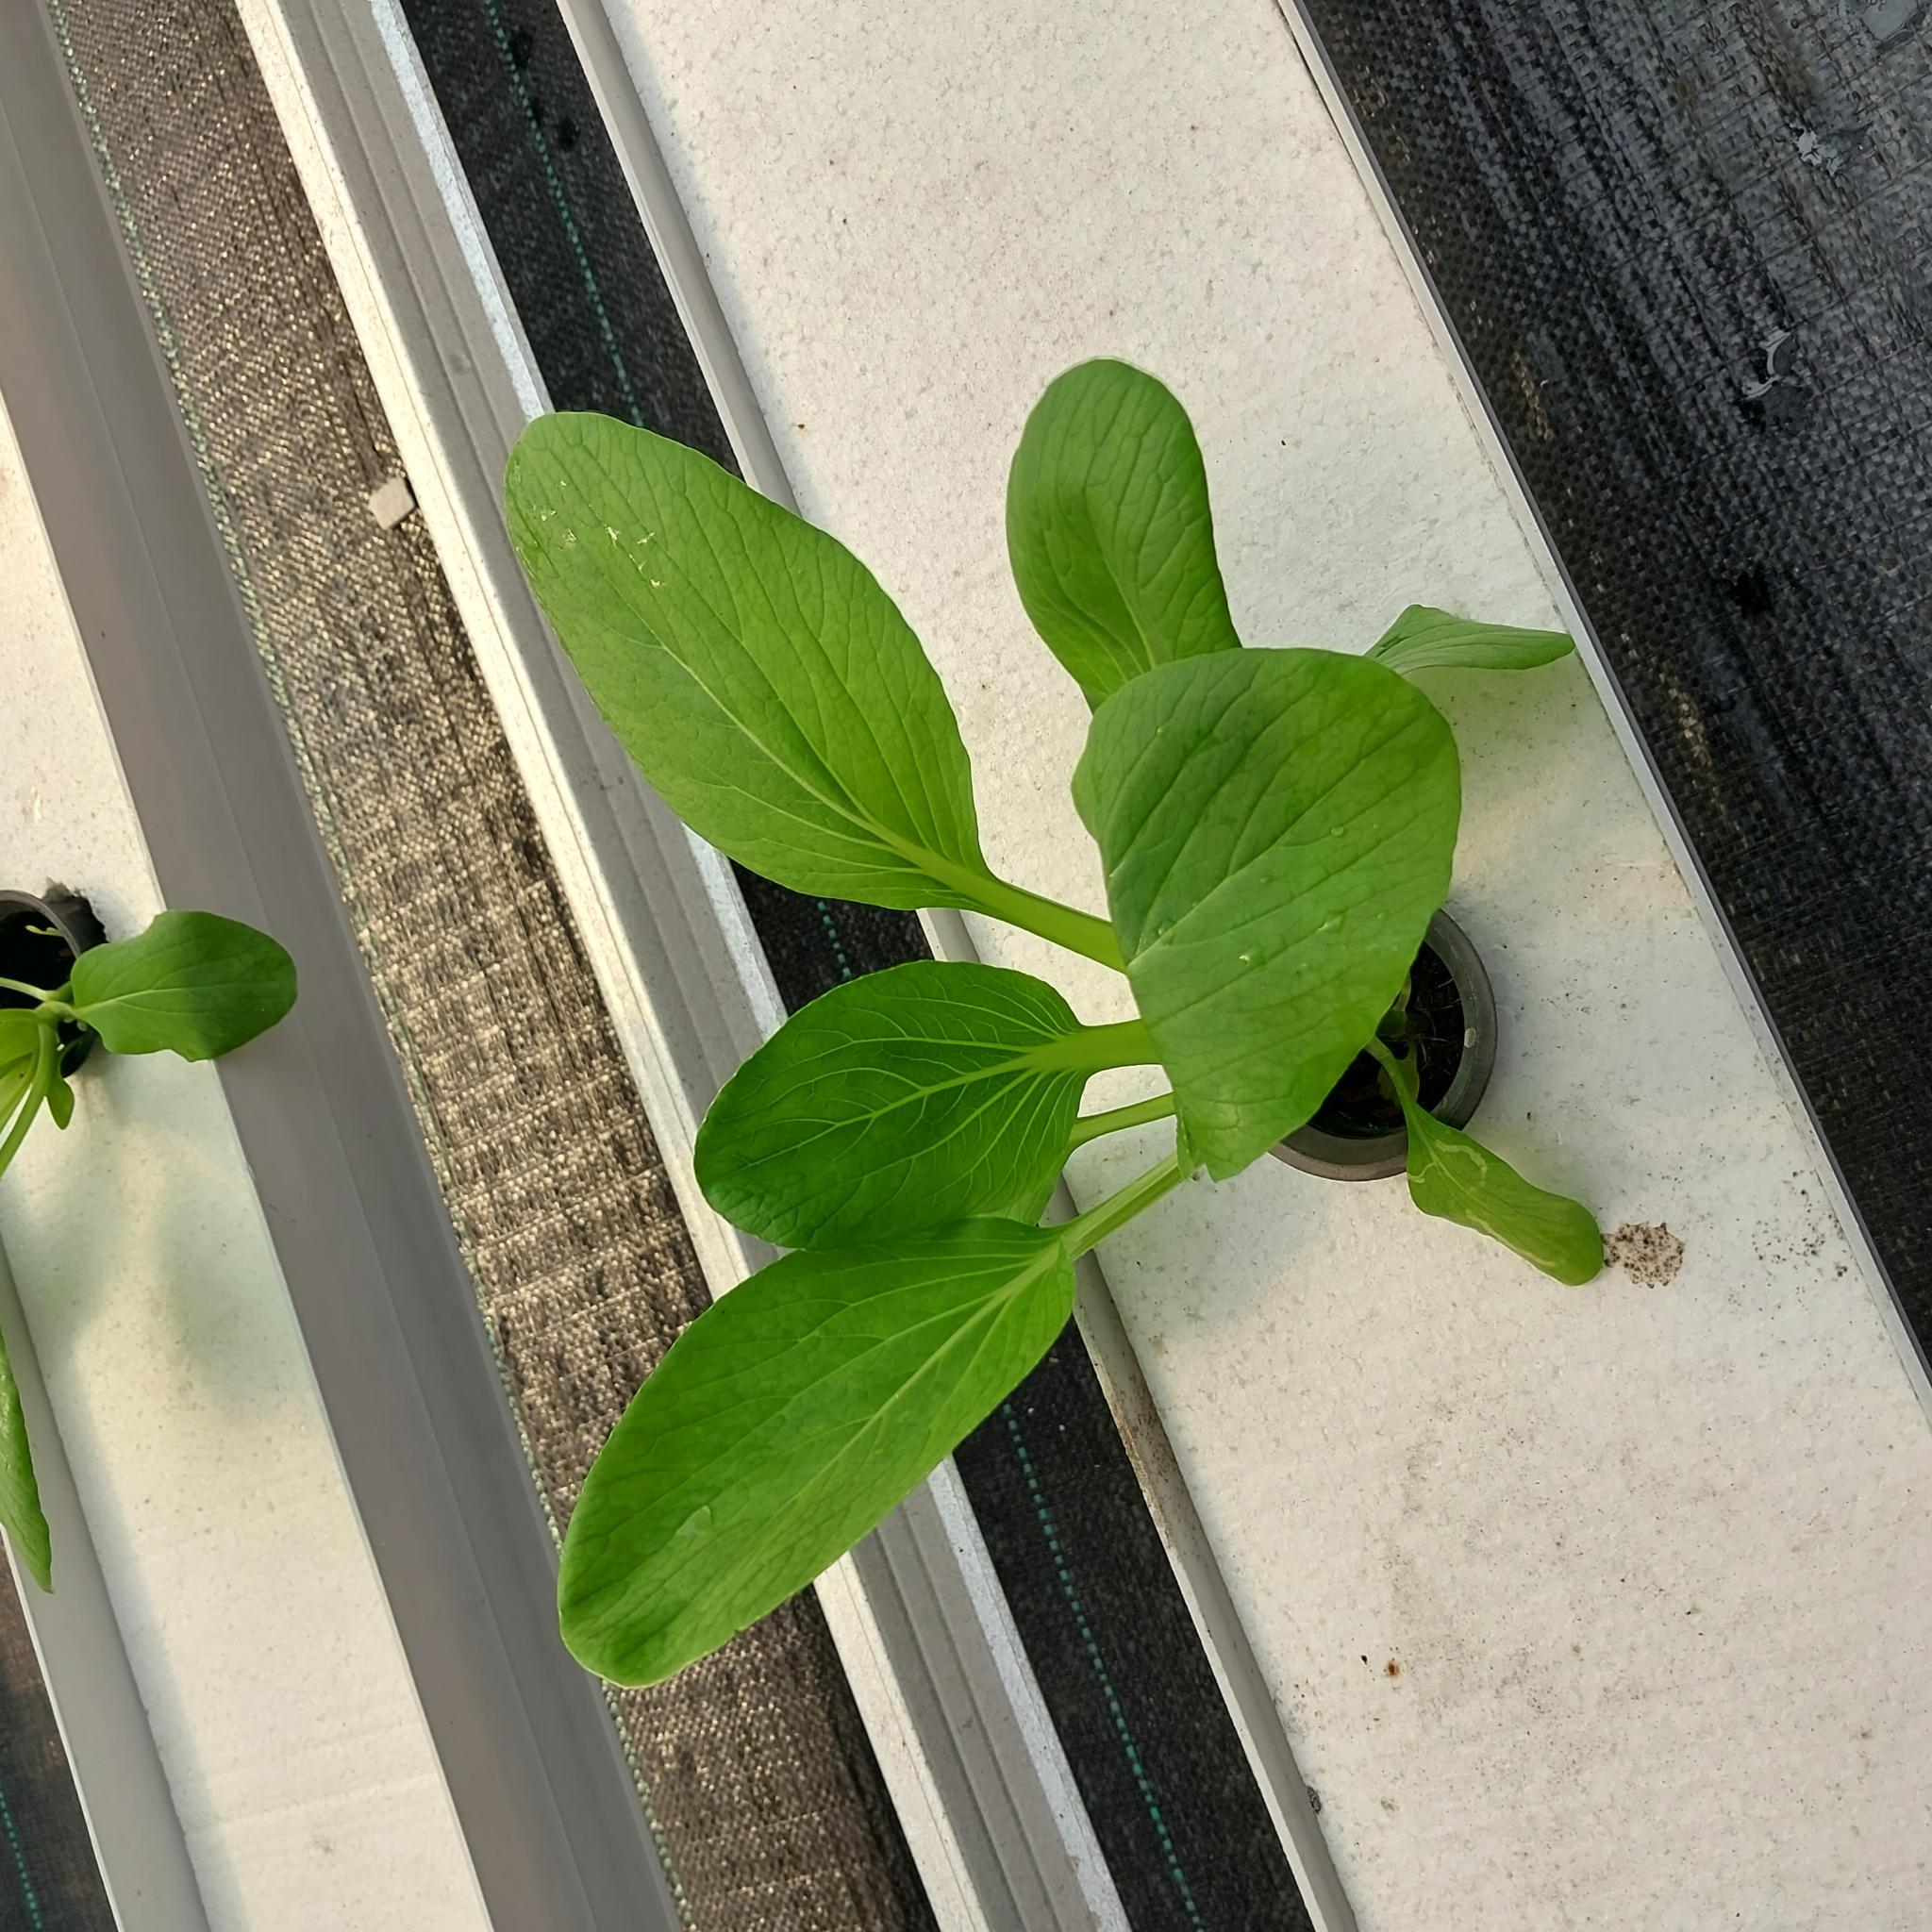Healthy-Pechay: (495, 405, 1077, 955), (550, 1196, 1104, 1695), (1076, 651, 1479, 1178), (695, 968, 1131, 1249), (1008, 357, 1237, 718), (55, 908, 301, 1067), (1361, 603, 1583, 674)
